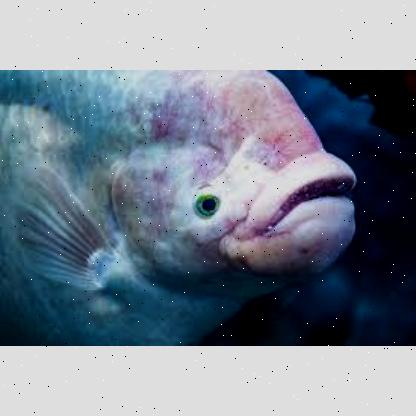gurame: (0, 69, 364, 345)
